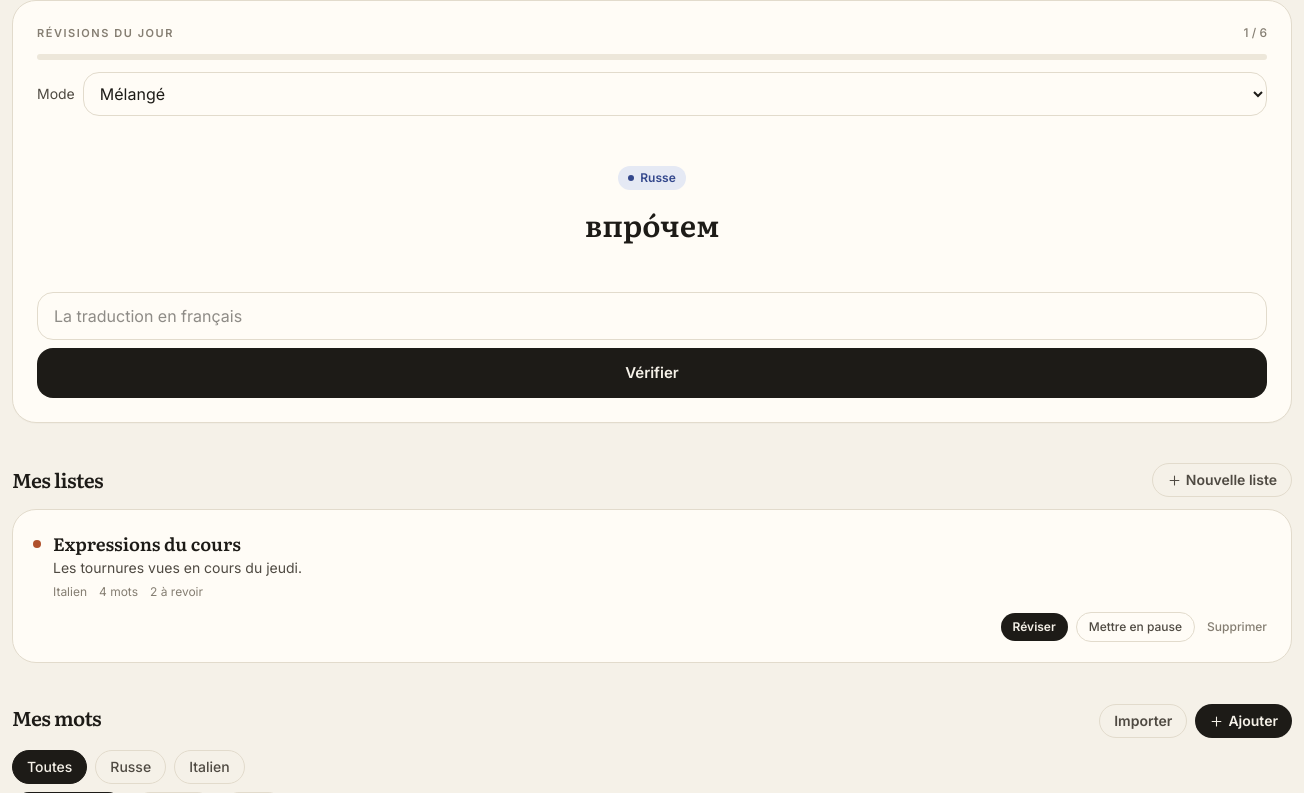
Test: VocabularyView › lists › takes the words of a paused list out of the review and the due count
Expected: the text "1 / 6" is shown, 1244,25 -> 1267,41
Expected: the text "2 à revoir" is shown, 150,584 -> 203,600
Click the button with aria-label "Mettre en pause « Expressions du cours »".
click(1135, 627)  # box 1076,612 -> 1195,642
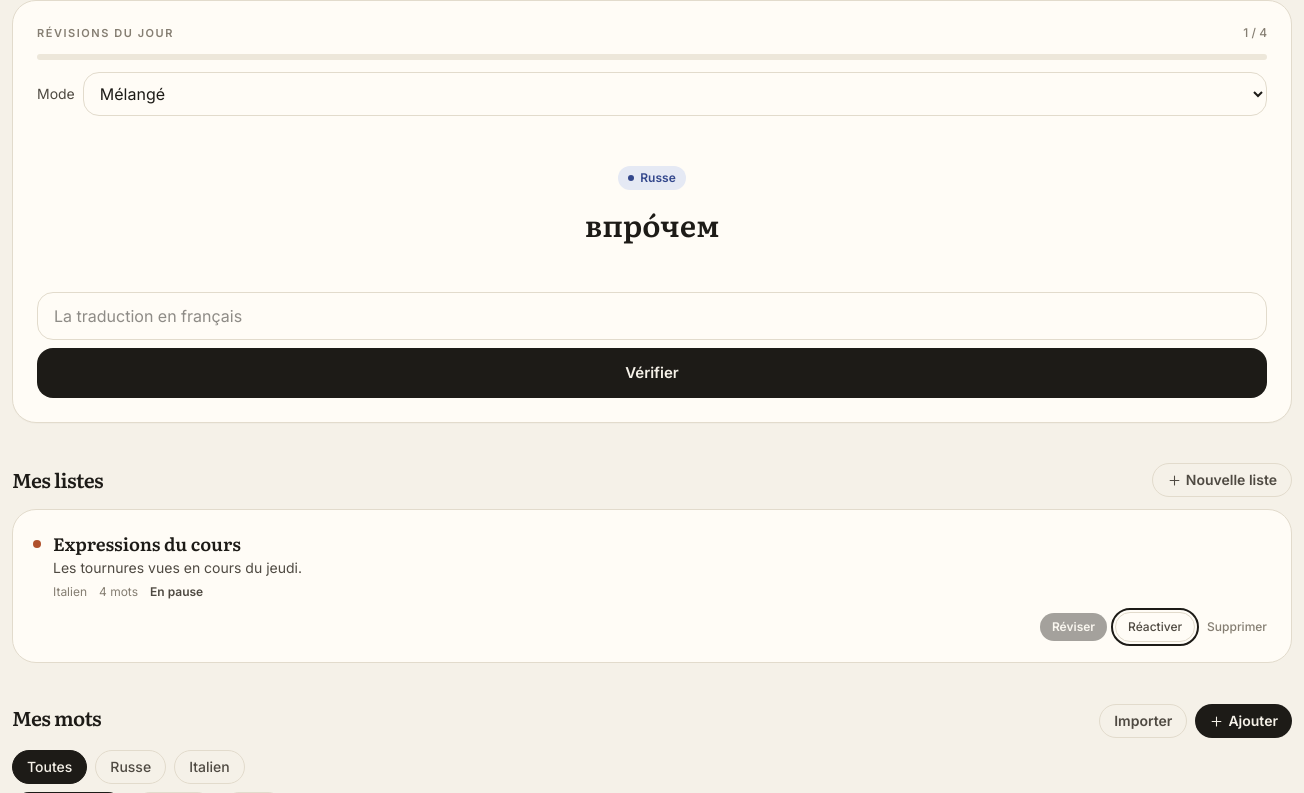
Result: the text "1 / 4" is shown at 1243,25 -> 1267,41
Result: the text "En pause" is shown at 150,584 -> 203,600
Result: the button with aria-label "Réviser « Expressions du cours »" is disabled at 1040,613 -> 1107,641
Click the button with aria-label "Réactiver « Expressions du cours »".
click(1155, 627)  # box 1115,612 -> 1195,642
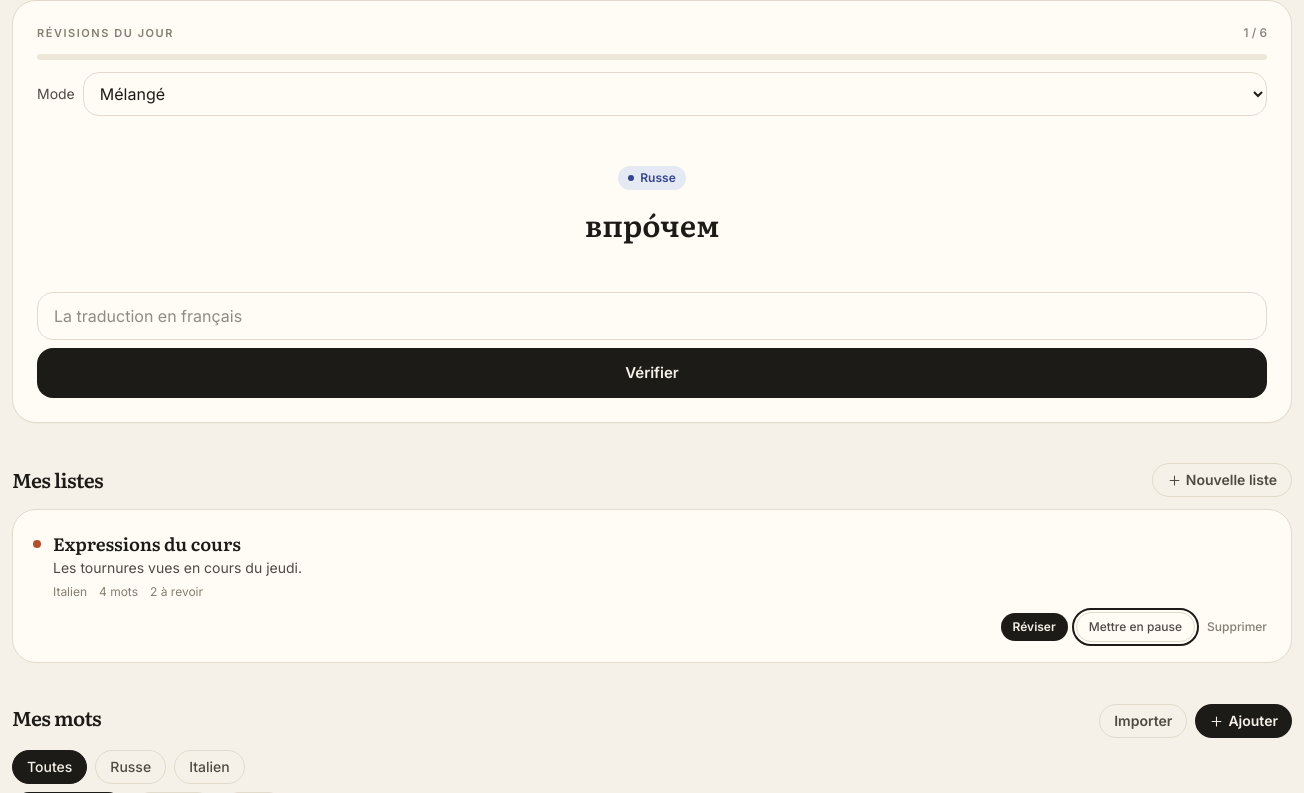
Result: the text "1 / 6" is shown at 1244,25 -> 1267,41
